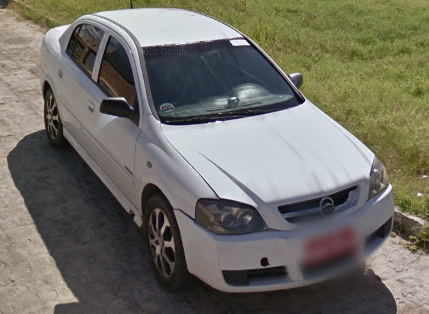car: (39, 7, 398, 298)
